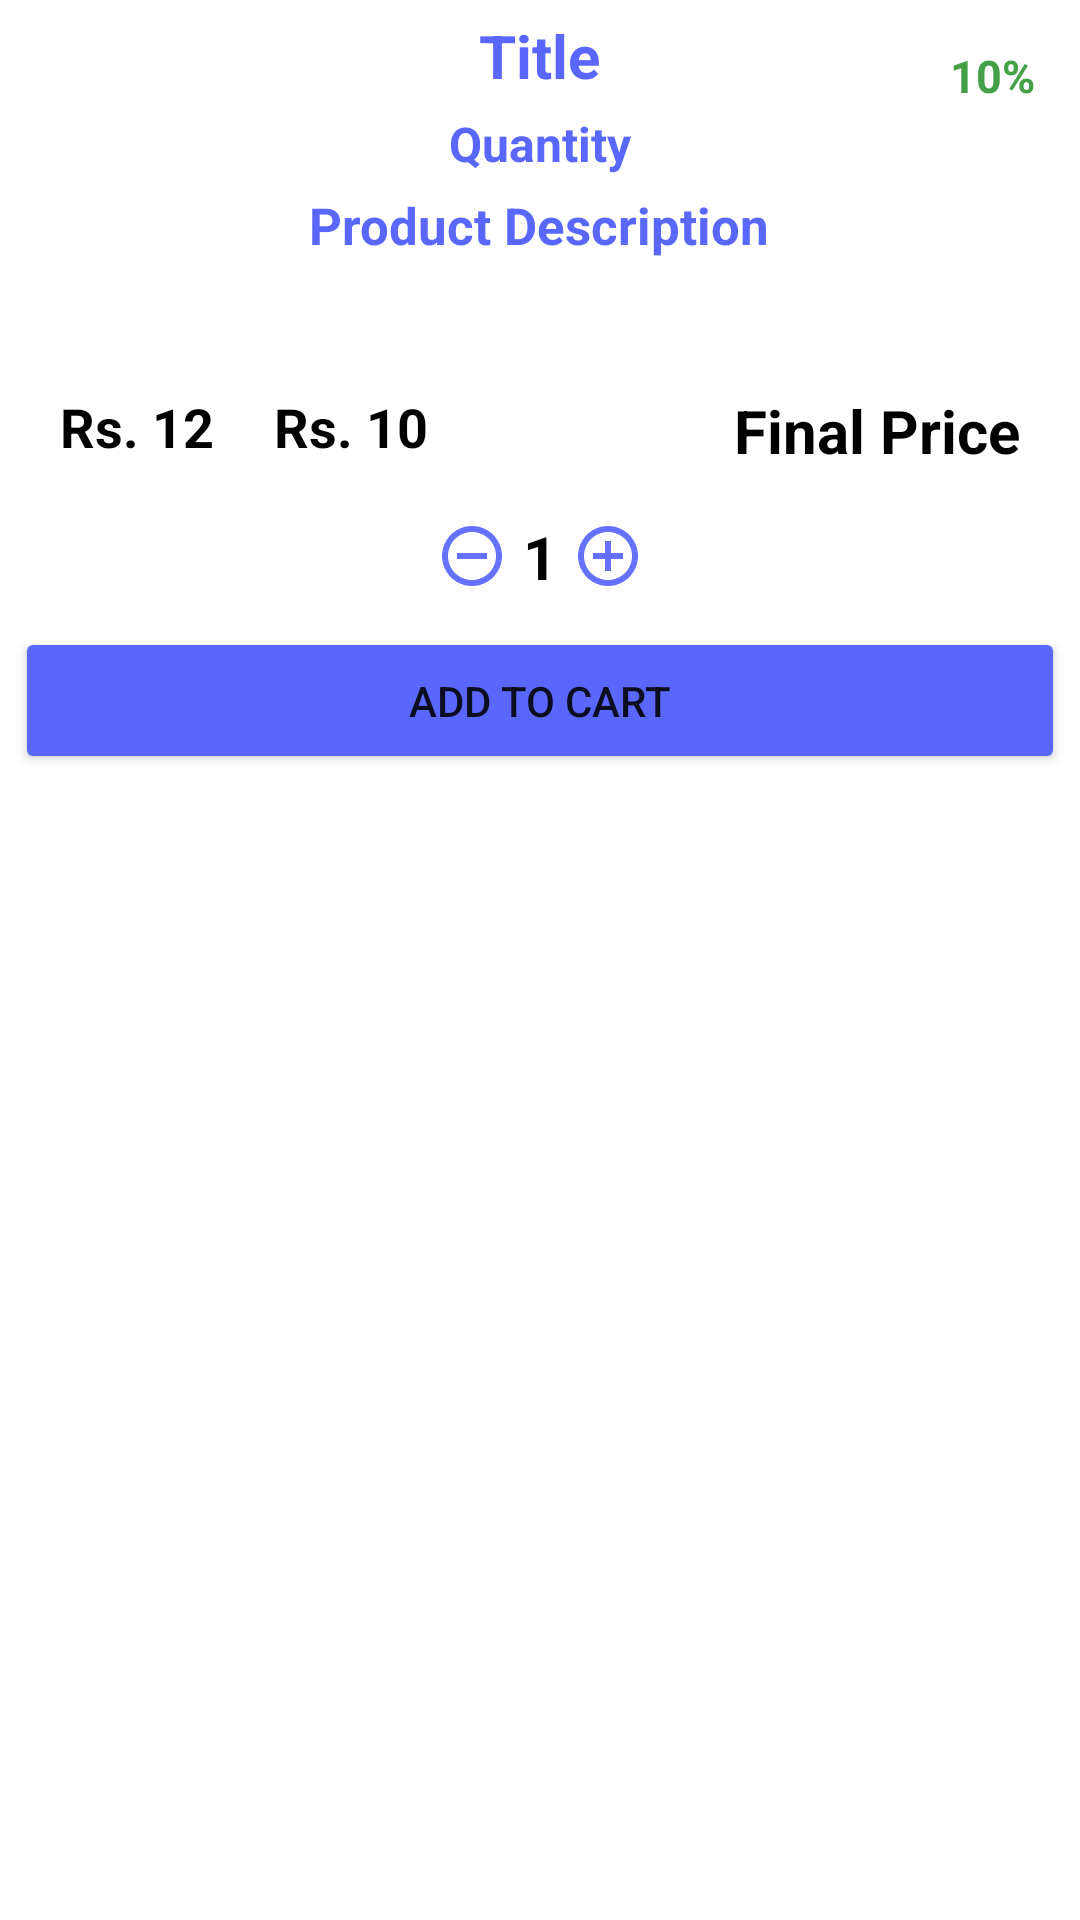

Icon bounding boxes for this 1080w x 1920h phone screenshot, format (x1, y1, x2, y2):
add circle: (578, 526, 638, 586)
remove: (442, 526, 502, 586)
